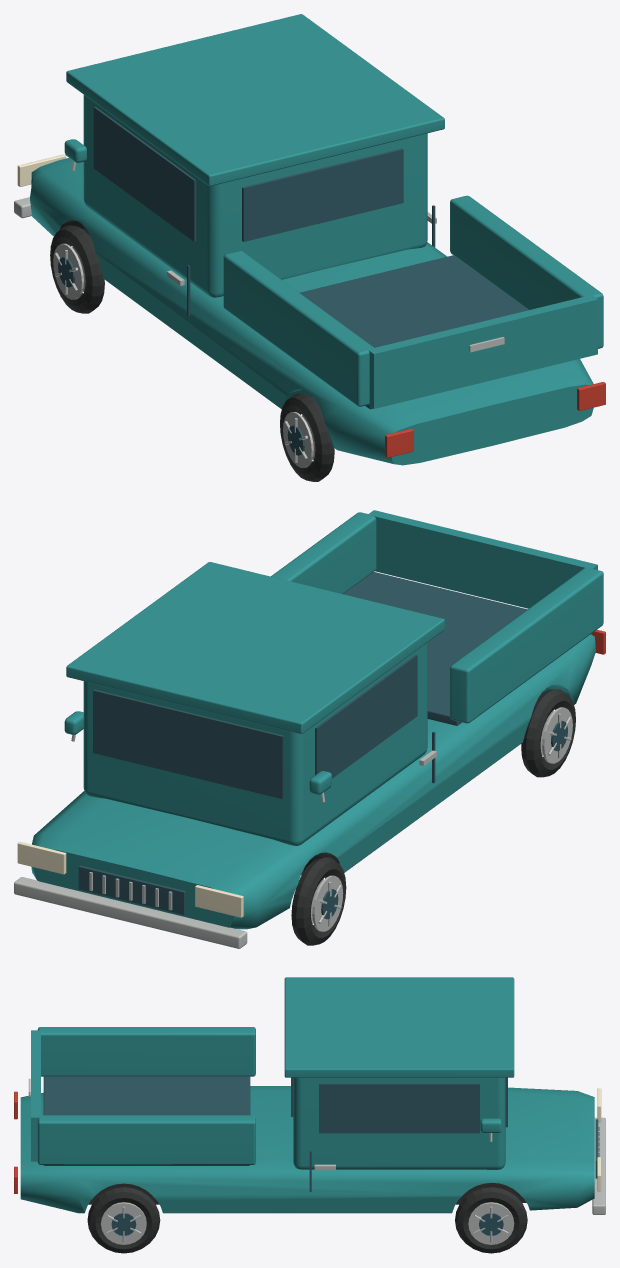
The model's file is pickup_detail.glb.
The picture shows the model from 3 angles, top to bottom: view 1: azimuth 30°, elevation 25°; view 2: azimuth 150°, elevation 25°; view 3: azimuth 270°, elevation 25°; orthographic projection. The views are drawn at different scales.
Parts seen in each view (by area): view 1: PickupModel traffic_teal, PickupModel traffic_glass, Rounded road tire.001, Rounded road tire, PickupModel traffic_red, Spin.001 traffic_metal, Spin traffic_metal, PickupModel traffic_metal; view 2: PickupModel traffic_teal, PickupModel traffic_glass, PickupModel traffic_metal, Rounded road tire.001, Rounded road tire, PickupModel traffic_light, Spin traffic_metal, Spin.001 traffic_metal; view 3: PickupModel traffic_teal, PickupModel traffic_glass, Rounded road tire.002, Rounded road tire.003, Spin.003 traffic_metal, Spin.002 traffic_metal, PickupModel traffic_metal, Spin.003 traffic_glass, Spin.002 traffic_glass.
Boxes of the visible parts, left/top/right/bottom form: PickupModel traffic_teal: left=30, top=14, right=603, bottom=465; PickupModel traffic_glass: left=93, top=106, right=528, bottom=409; Rounded road tire.001: left=50, top=225, right=104, bottom=313; Rounded road tire: left=280, top=393, right=334, bottom=481; PickupModel traffic_red: left=385, top=382, right=605, bottom=457; Spin.001 traffic_metal: left=53, top=243, right=85, bottom=299; Spin traffic_metal: left=283, top=412, right=315, bottom=467; PickupModel traffic_metal: left=14, top=160, right=504, bottom=352; PickupModel traffic_teal: left=31, top=510, right=603, bottom=929; PickupModel traffic_glass: left=78, top=571, right=527, bottom=914; PickupModel traffic_metal: left=14, top=734, right=436, bottom=948; Rounded road tire.001: left=291, top=857, right=346, bottom=945; Rounded road tire: left=521, top=689, right=575, bottom=777; PickupModel traffic_light: left=17, top=841, right=243, bottom=917; Spin traffic_metal: left=540, top=707, right=572, bottom=763; Spin.001 traffic_metal: left=310, top=875, right=343, bottom=931; PickupModel traffic_teal: left=20, top=977, right=594, bottom=1213; PickupModel traffic_glass: left=43, top=1076, right=598, bottom=1191; Rounded road tire.002: left=87, top=1187, right=160, bottom=1253; Rounded road tire.003: left=455, top=1187, right=527, bottom=1253; Spin.003 traffic_metal: left=468, top=1202, right=514, bottom=1244; Spin.002 traffic_metal: left=101, top=1202, right=146, bottom=1244; PickupModel traffic_metal: left=28, top=1078, right=605, bottom=1214; Spin.003 traffic_glass: left=479, top=1213, right=503, bottom=1235; Spin.002 traffic_glass: left=111, top=1213, right=136, bottom=1235.
Size of the model in its own units: 2.06 by 1.7 by 4.98.
